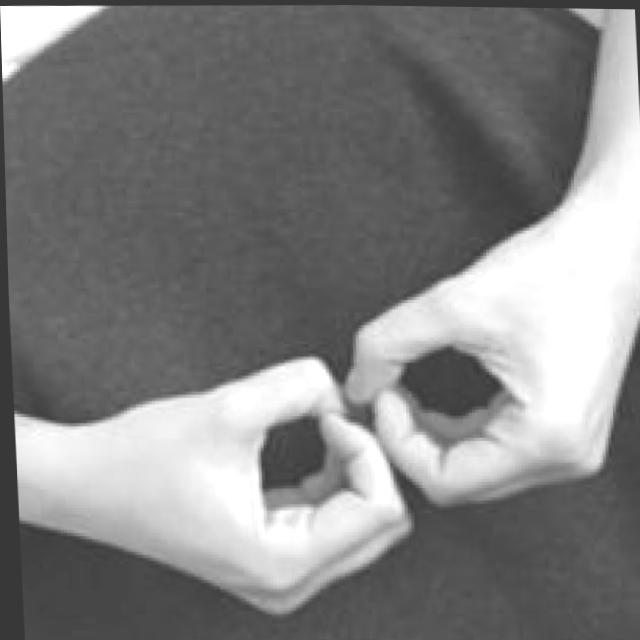B: (116, 184, 640, 627)
